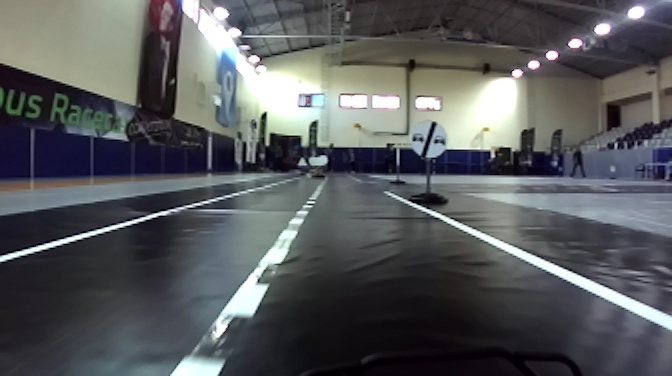sollama_serbest: (408, 118, 447, 158)
